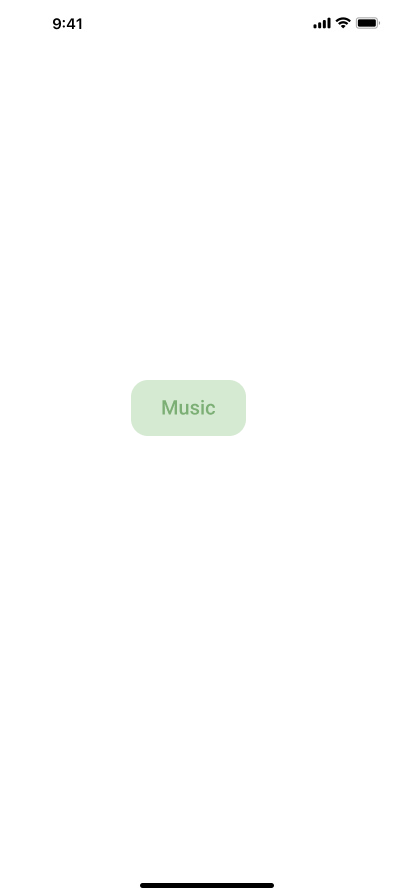Buttons: (131, 380, 254, 436)
Home Indicator: (0, 862, 414, 896)
Status Bar: (0, 0, 414, 44)
